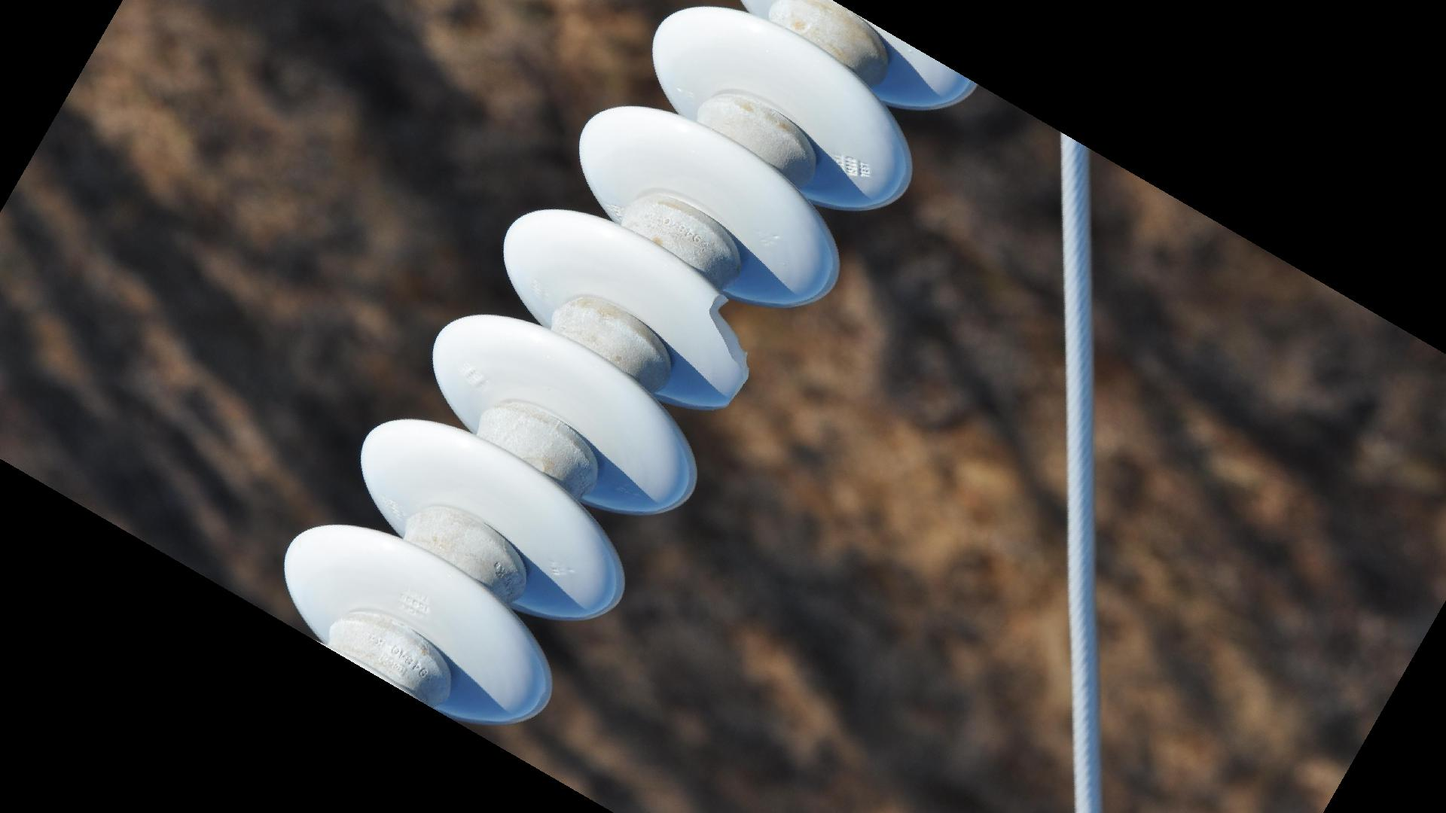insulator: (276, 1, 987, 732)
insulator_breakage: (697, 283, 758, 419)
